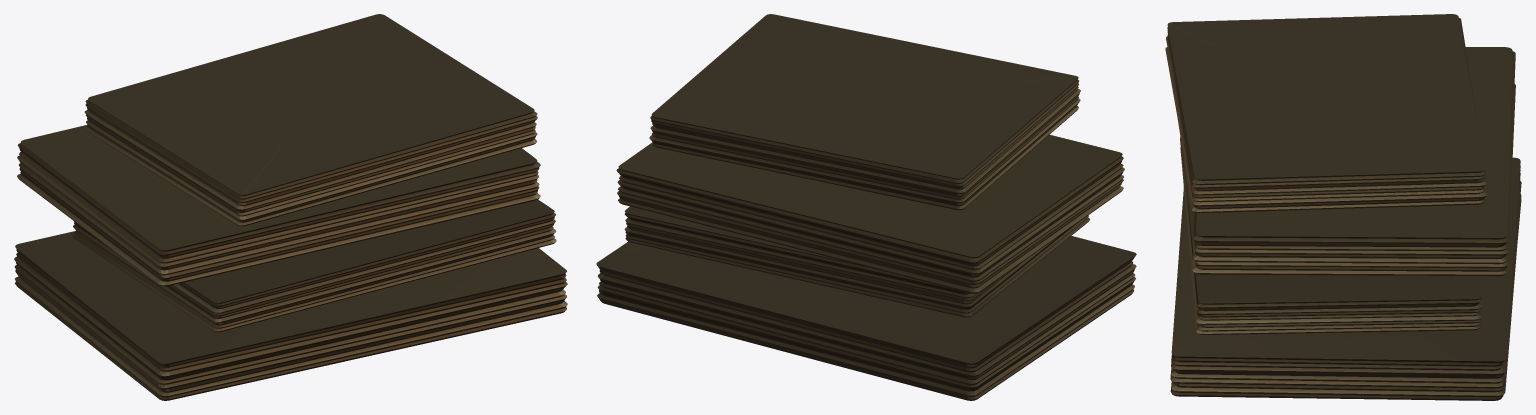
Rendered from StudyPaper.fbx.
3 views of the same model, side by side, from view 1: azimuth 30°, elevation 25°; view 2: azimuth 150°, elevation 25°; view 3: azimuth 270°, elevation 25° (orthographic). The views are drawn at different scales.
Parts seen in each view (by area): view 1: StudyPaper; view 2: StudyPaper; view 3: StudyPaper.
Part boxes in pixels (bbox=[...]): StudyPaper: bbox=[14, 14, 567, 400]; StudyPaper: bbox=[596, 14, 1136, 400]; StudyPaper: bbox=[1165, 14, 1521, 400].
Bounding box in the file's own units: 301 × 139 × 217.
